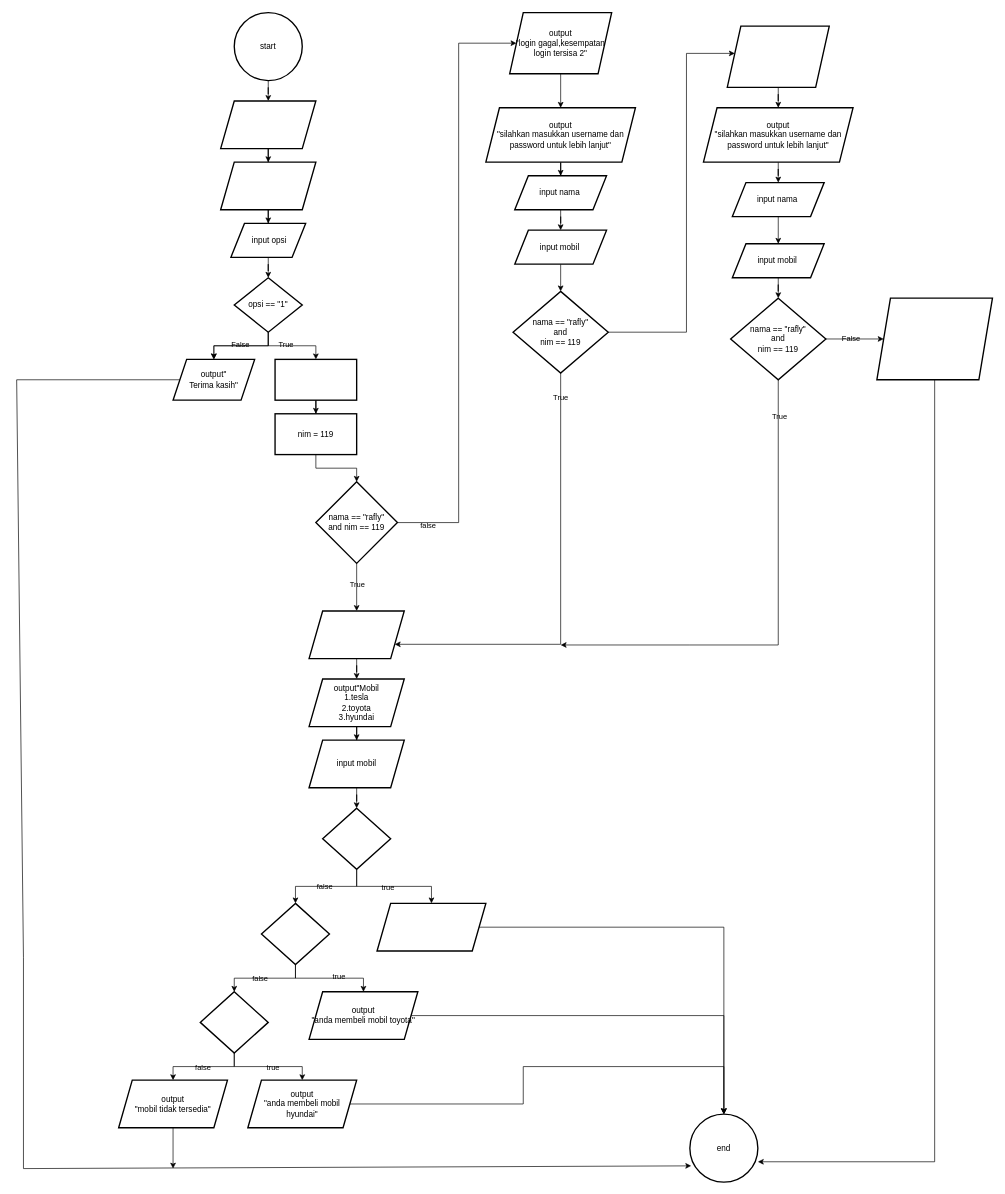
Image size: 1005x1194. Some labels were removed from this diagram. The shapes that lost their labels are listed below. From the top down, each one's centre as x and y in pixels, then its label:
(778,56): output "login gagal,kesempatan login tersisa 1"
(268,124): output" Selamat datang di HALOMOBIL"
(268,185): output" Silahkan login dahulu 1.Login 2.Keluar"
(934,338): output "login gagal, maaf sesi login anda sudah habis"
(315,379): nama = "rafly"
(356,634): output "anda berhasil login"
(356,838): mobil == 1
(295,933): mobil == 2
(431,926): output "anda membeli mobil tesla"
(234,1022): mobil == 3
